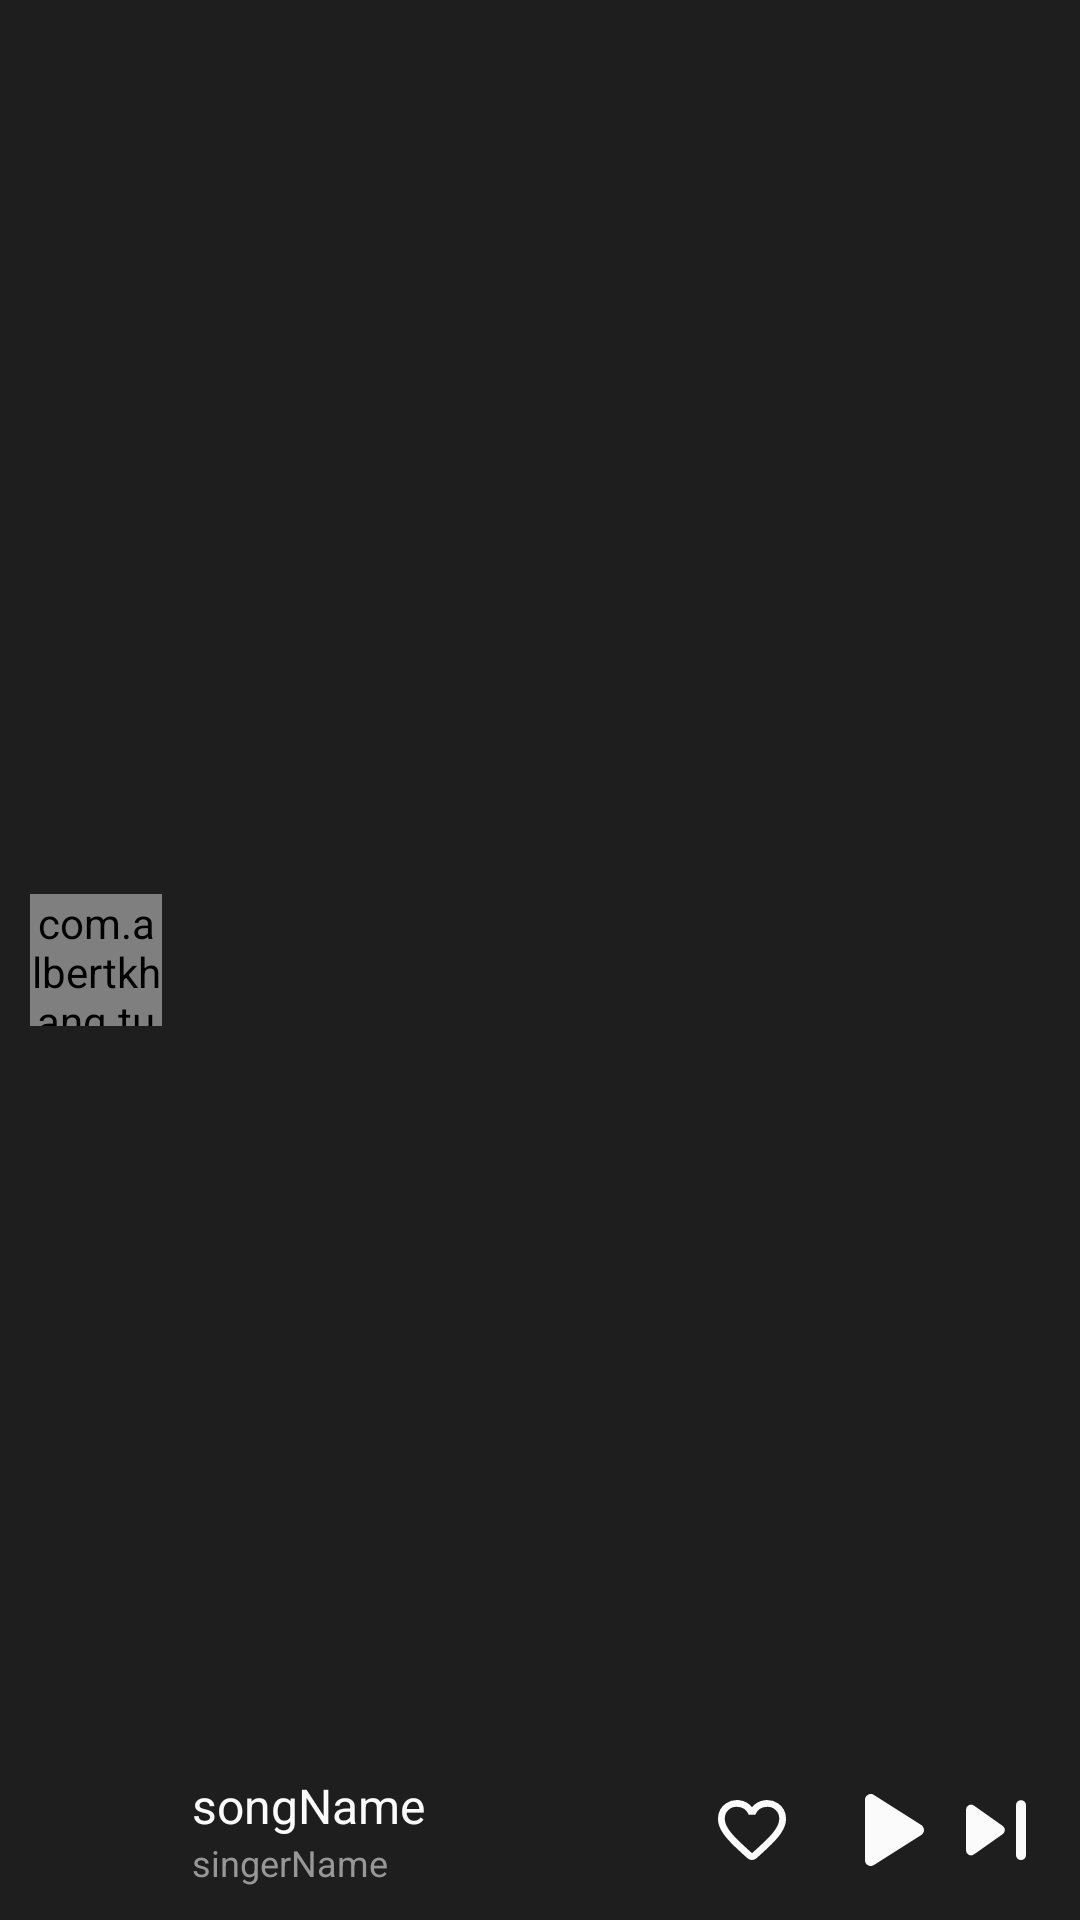

Icons on this 1080w x 1920h Android screen, each with the point to tap as (x,y):
not favourite: (752,1830)
play: (894,1830)
skip next: (996,1830)
